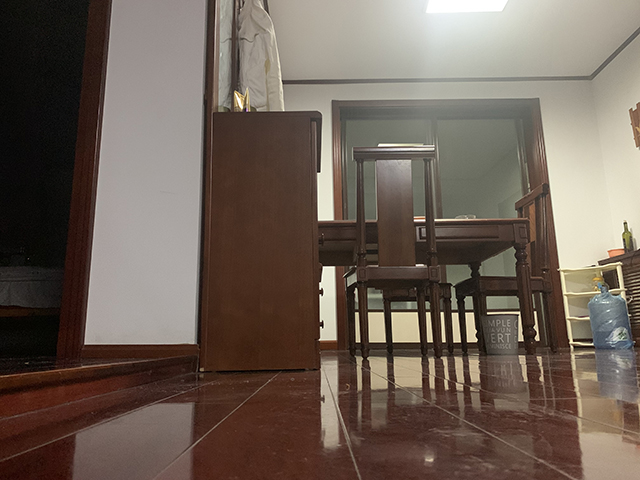cabinet: (199, 109, 326, 371)
stool: (342, 138, 444, 360), (452, 181, 557, 355), (382, 280, 454, 358)
table: (319, 216, 539, 359)
trashcan: (476, 313, 520, 357)
